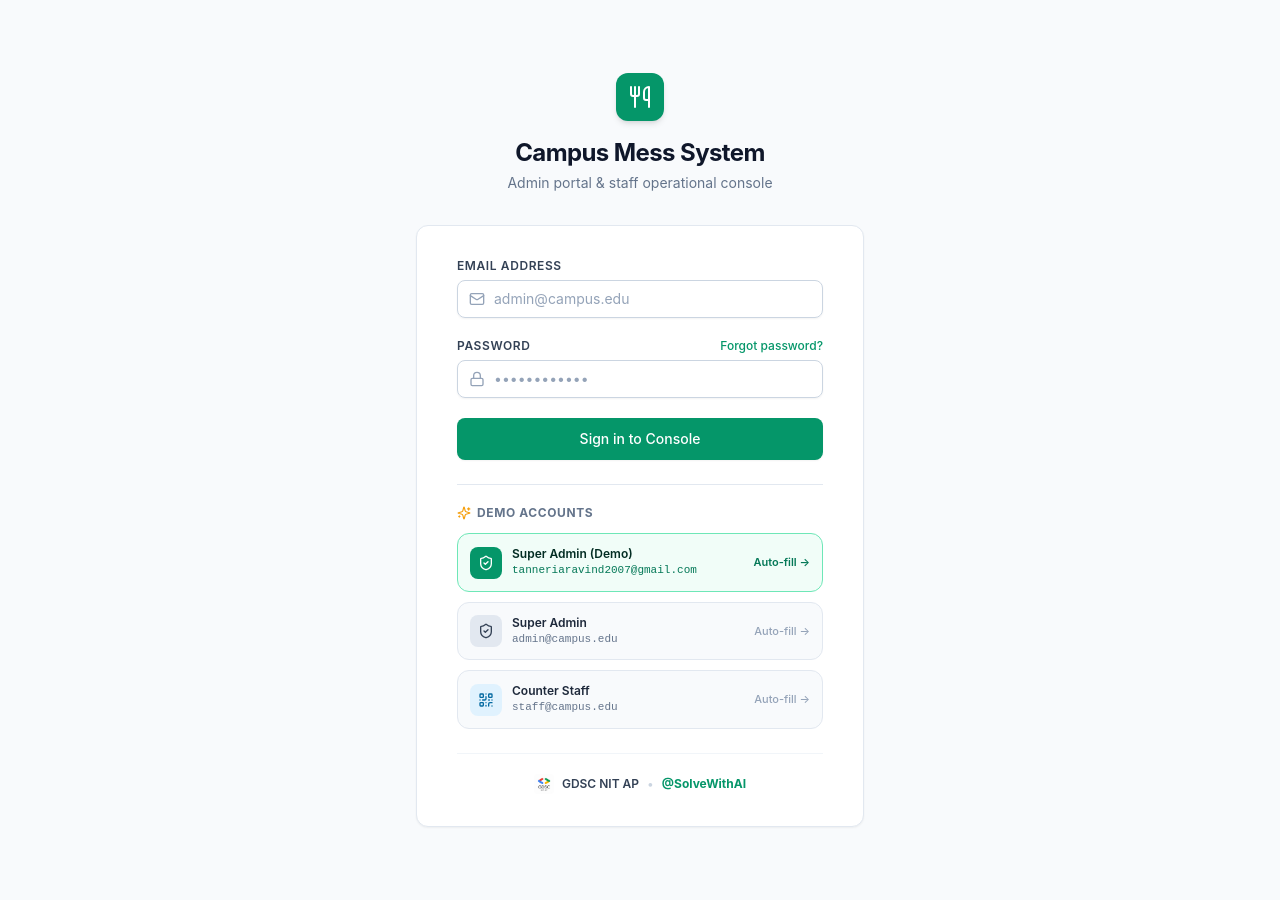
Test: LoginPage Demo Login & Mock Password Reset Workflow › Mock Password Reset Workflow › displays resend OTP with cooldown timer and sends new code
The width and height of the screenshot is (1280, 900).
# Open modal
Click the button "Forgot password?".
click(772, 346)  # box 720,338 -> 823,354
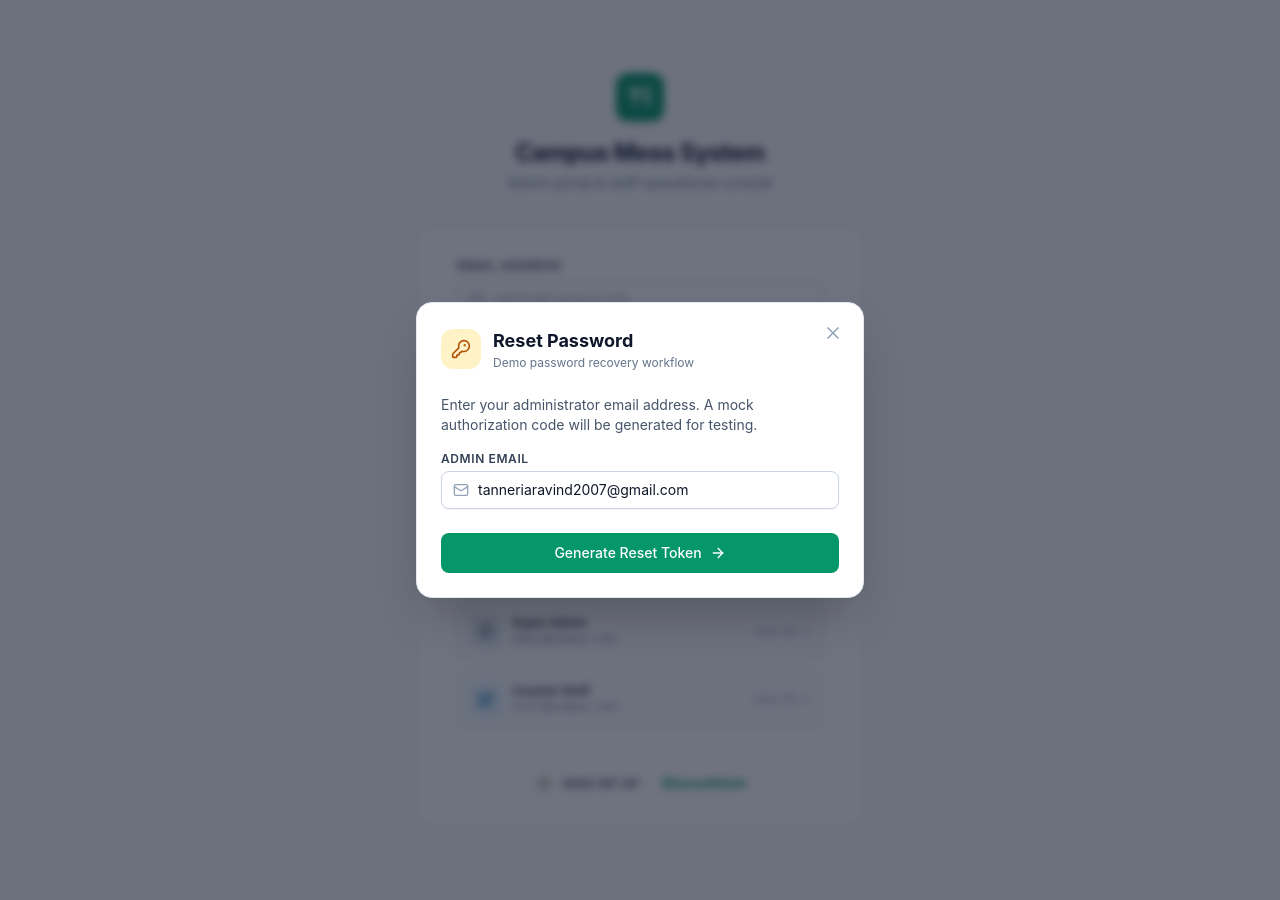
# Request token
Click the button "Generate Reset Token".
click(640, 553)  # box 441,533 -> 839,573
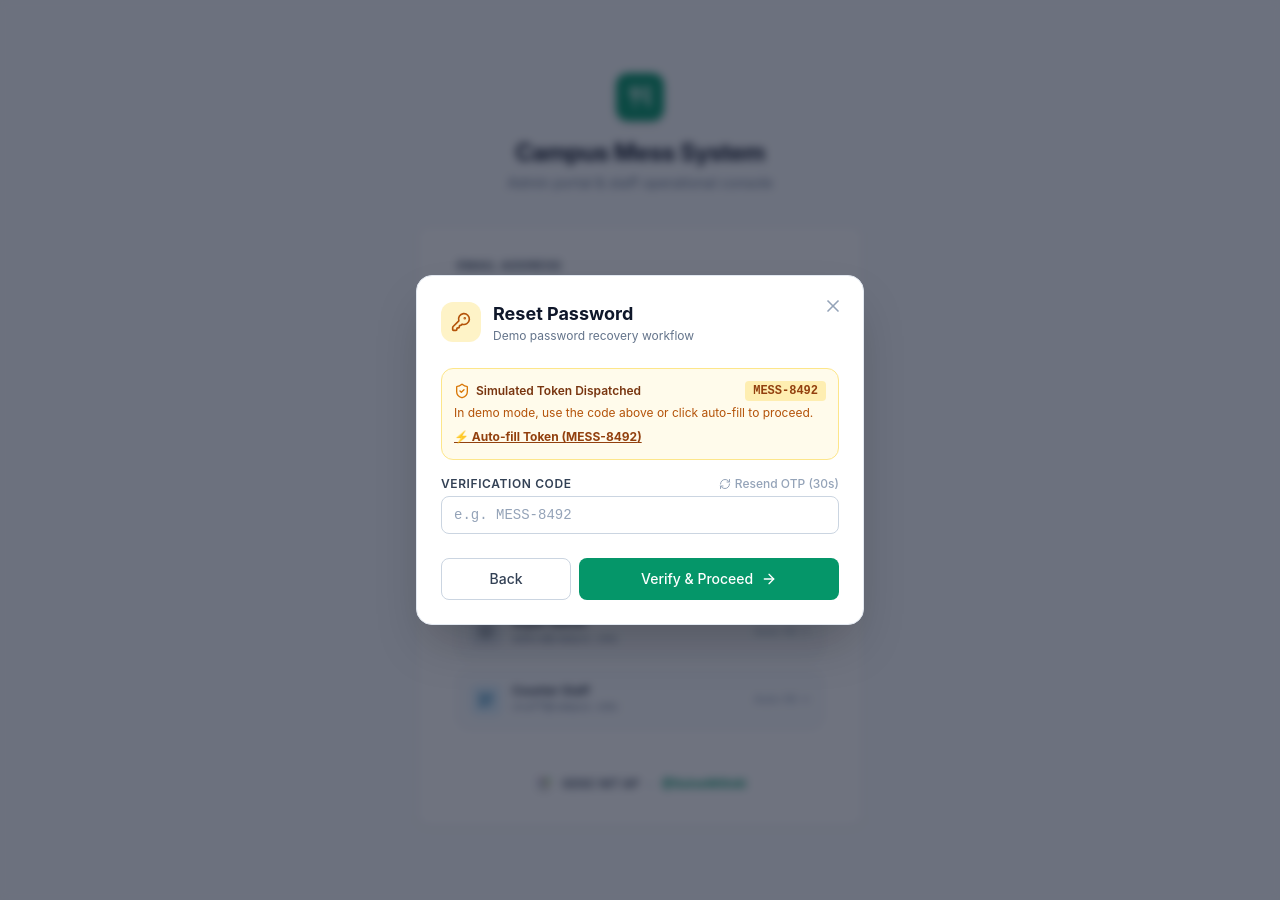
Expected: the text "Resend OTP (30s)" is shown, 735,476 -> 839,492
Expected: the button "Resend OTP (30s)" is disabled, 719,476 -> 839,492
